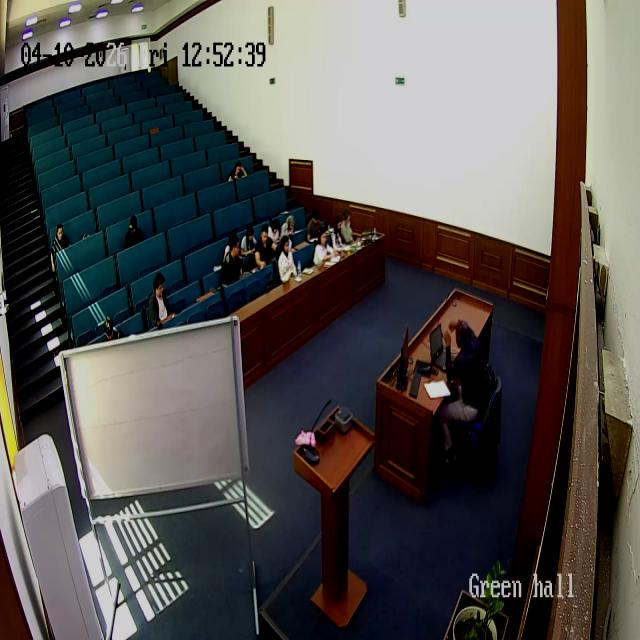person: (435, 318, 483, 465), (147, 273, 175, 328), (220, 236, 244, 286), (50, 223, 70, 276), (254, 223, 277, 267), (277, 235, 297, 282), (313, 228, 333, 268), (240, 225, 258, 267), (103, 310, 122, 346), (124, 216, 144, 250), (307, 209, 325, 243), (279, 213, 295, 247), (338, 210, 354, 243), (329, 218, 345, 250), (229, 161, 247, 182)
